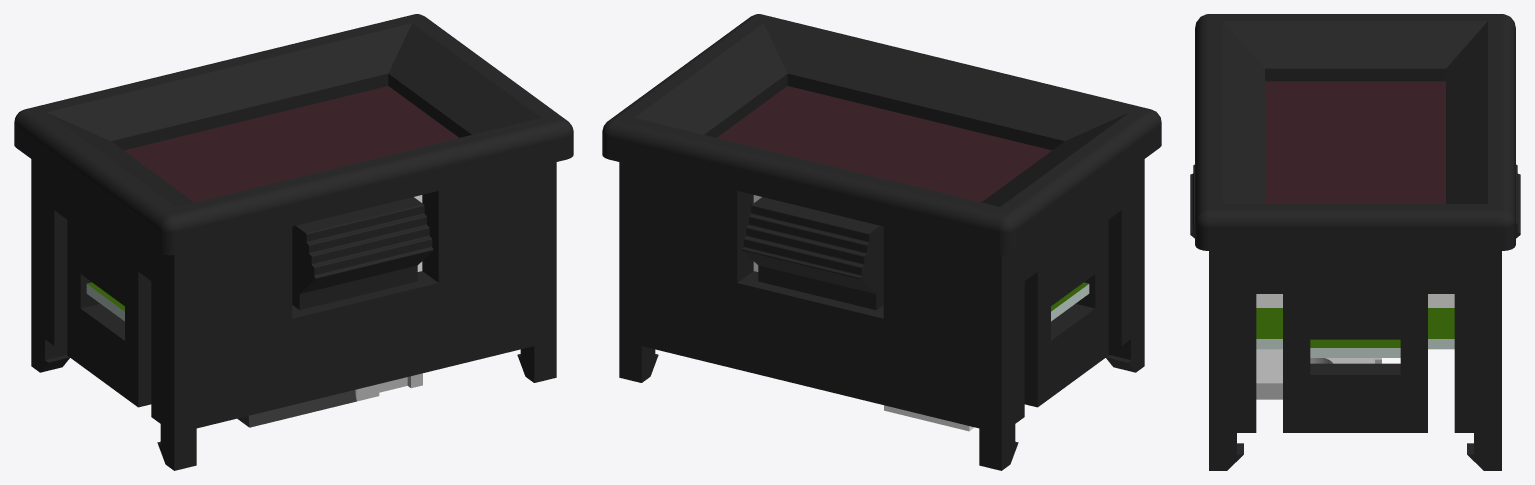
Rendered from DC Digital Voltmeter 36mm.obj.
3 renders of one model, left to right at view 1: azimuth 30°, elevation 25°; view 2: azimuth 150°, elevation 25°; view 3: azimuth 270°, elevation 25°, orthographic. The views are drawn at different scales.
Visible parts, largest first — view 1: Solid1:2, Solid1:1; view 2: Solid1:2; view 3: Solid1:2, Solid1:1.
Part boxes in pixels (x1=…): Solid1:2: x1=14, y1=14, x2=573, y2=470; Solid1:1: x1=237, y1=373, x2=422, y2=427; Solid1:2: x1=602, y1=14, x2=1161, y2=470; Solid1:2: x1=1190, y1=14, x2=1520, y2=470; Solid1:1: x1=1256, y1=349, x2=1381, y2=399.
Size of the model in its own units: 35 by 20.8 by 23.68.
